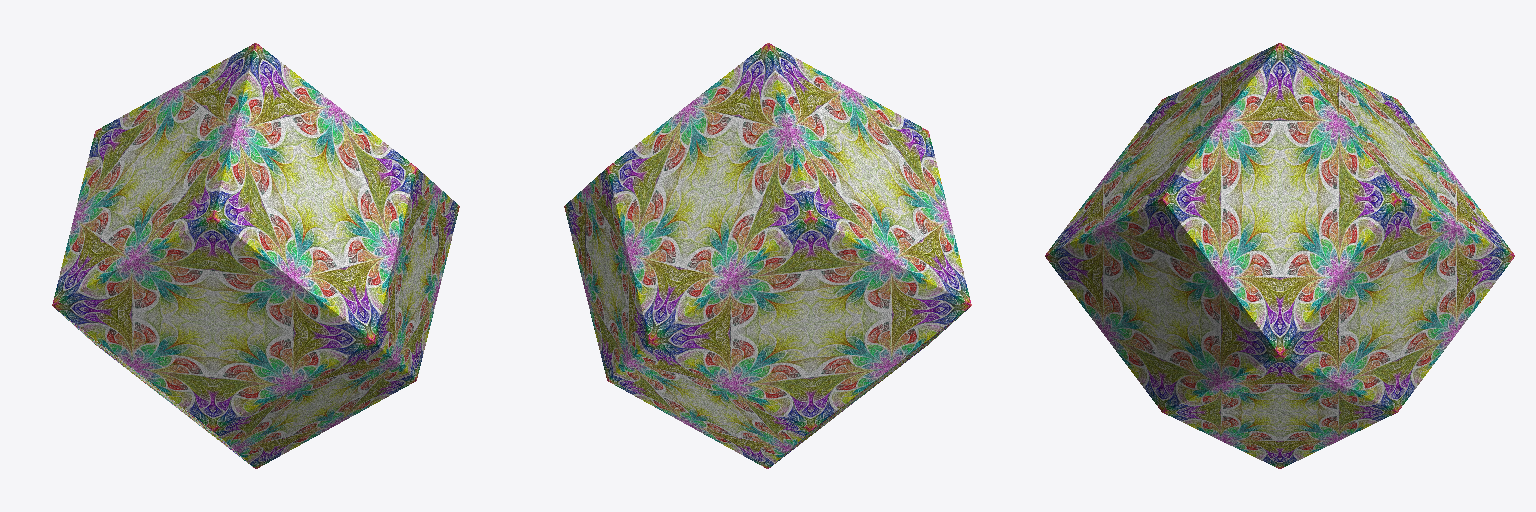
3 renders of one model, left to right at view 1: azimuth 30°, elevation 25°; view 2: azimuth 150°, elevation 25°; view 3: azimuth 270°, elevation 25°, orthographic.
Bounding box in the file's own units: 2.12 × 2.12 × 2.12.
1 materials, 1 textured.